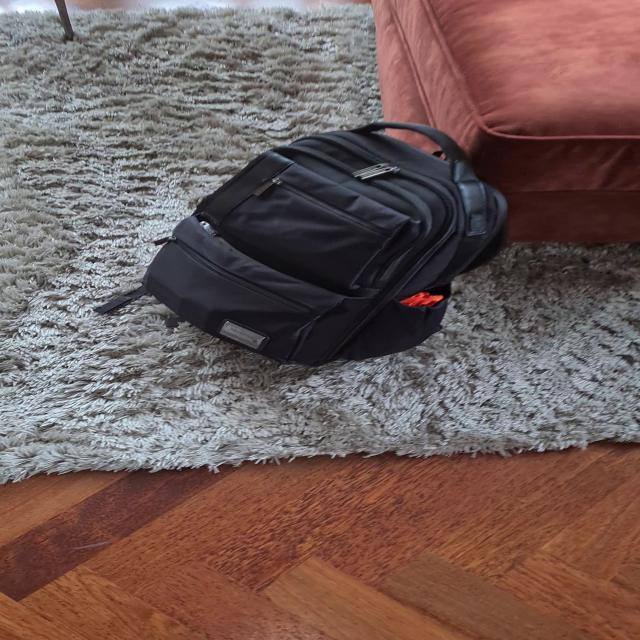backpack: (128, 112, 525, 369)
